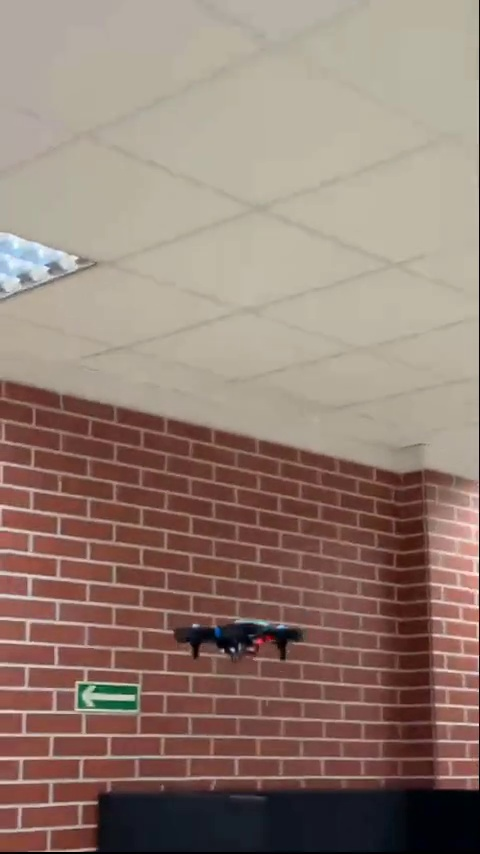drone: (173, 618, 303, 665)
